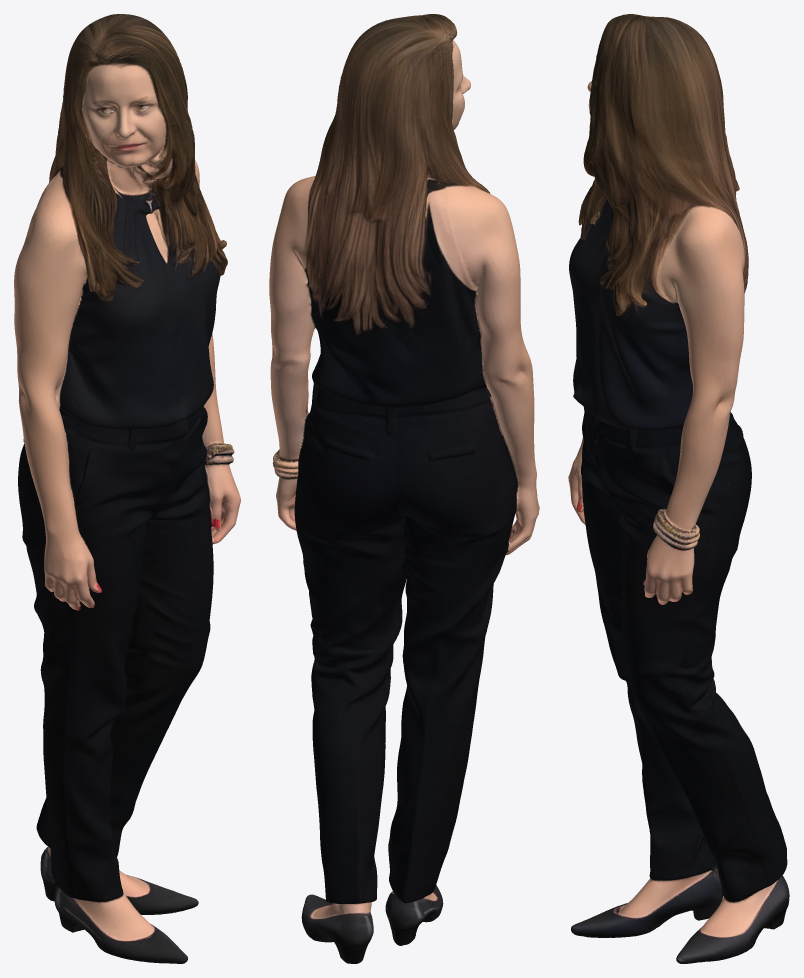
The model's file is portrait-of-a-woman-in-black-8bc5e15e.glb.
3 renders of one model, left to right at view 1: azimuth 30°, elevation 25°; view 2: azimuth 150°, elevation 25°; view 3: azimuth 270°, elevation 25°, orthographic. The views are drawn at different scales.
Parts seen in each view (by area): view 1: mesh_0; view 2: mesh_0; view 3: mesh_0.
Part boxes in pixels (x1=…): mesh_0: x1=14, y1=14, x2=240, y2=963; mesh_0: x1=269, y1=14, x2=539, y2=963; mesh_0: x1=568, y1=14, x2=789, y2=963.
Bounding box in the file's own units: 0.5048 × 1.9 × 0.4202.
1 material, 1 textured.
